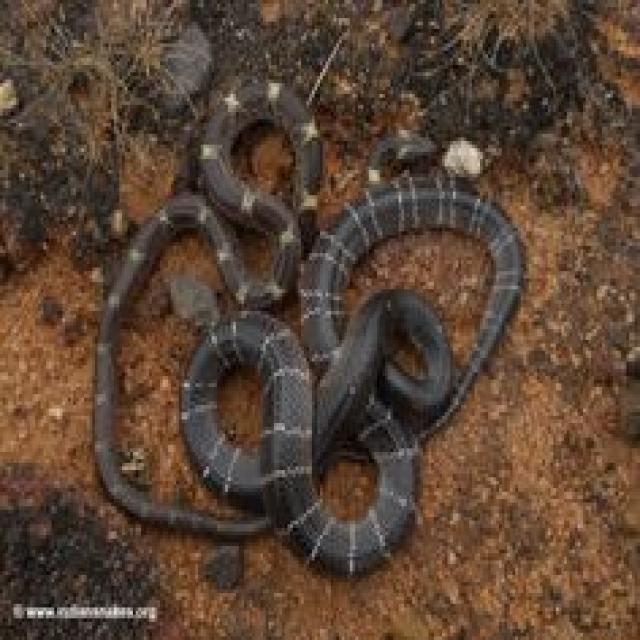Snake: (90, 69, 524, 578)
